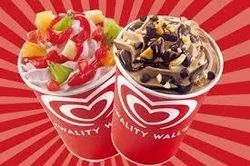Kwality_Walls: (111, 74, 200, 138), (34, 86, 119, 138)
